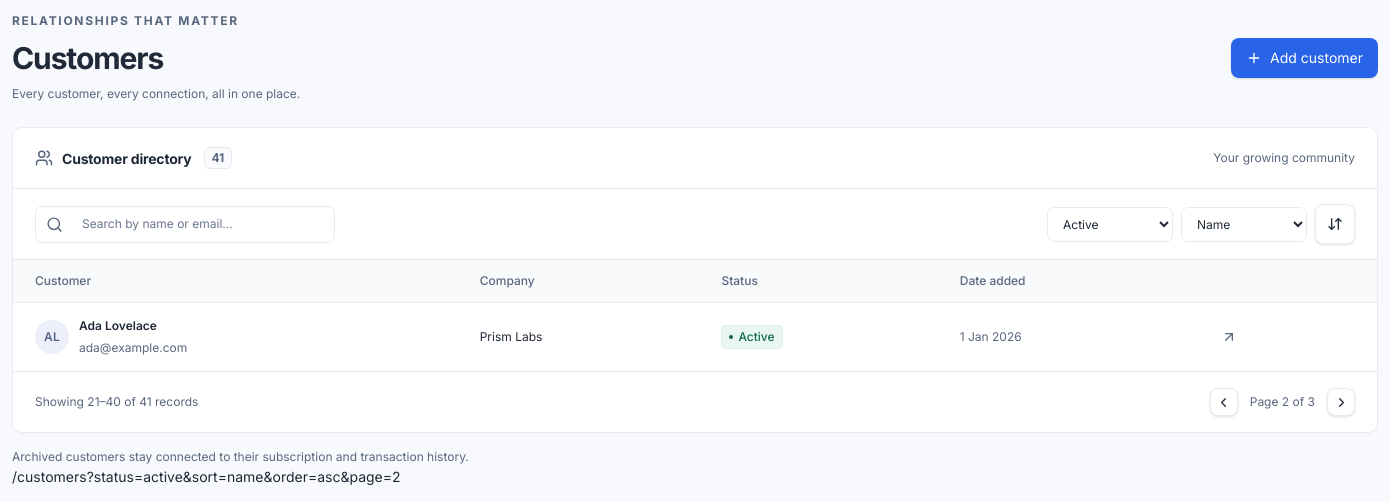
Test: customer pages › persists search, sort, status and pagination in a shareable URL
This screenshot has width=1390, height=502.
Expected: the link "AL Ada Lovelace ada@example.com" is shown, [35,318,187,355]
Expected: the 1st dropdown named "Customer status" shows "Active", [1047,206,1173,242]
Click the button named "Next page" at (1341, 402), box [1327,388,1355,416]
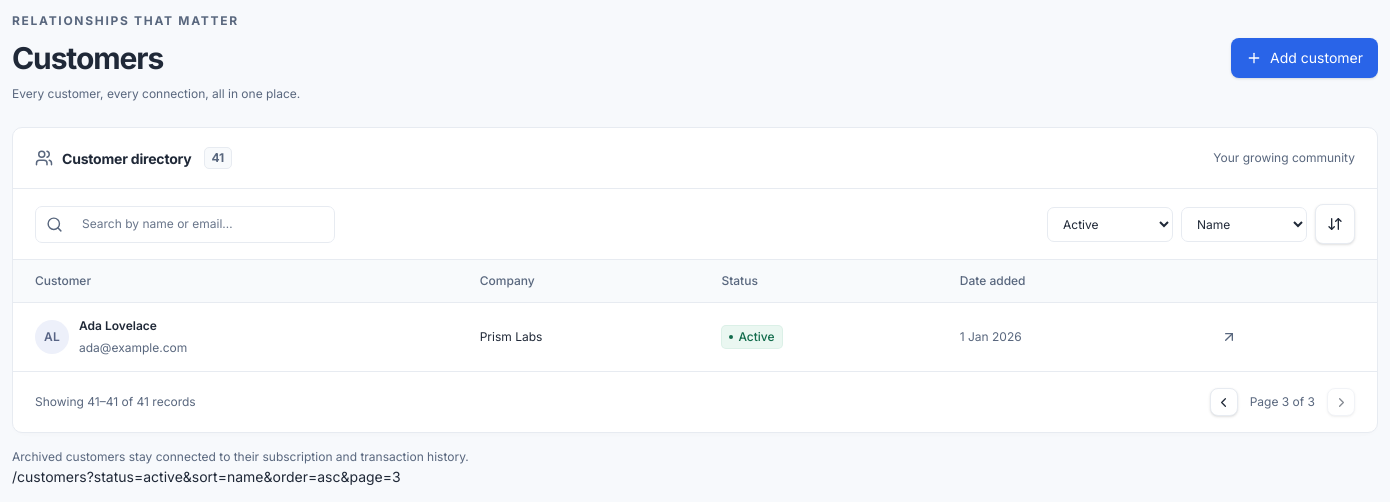
Now the text with test id "location" shows "page=3", box [12,468,401,485]
Type "ada" into the field named "Search customers" at (202, 224), box [71,206,334,242]
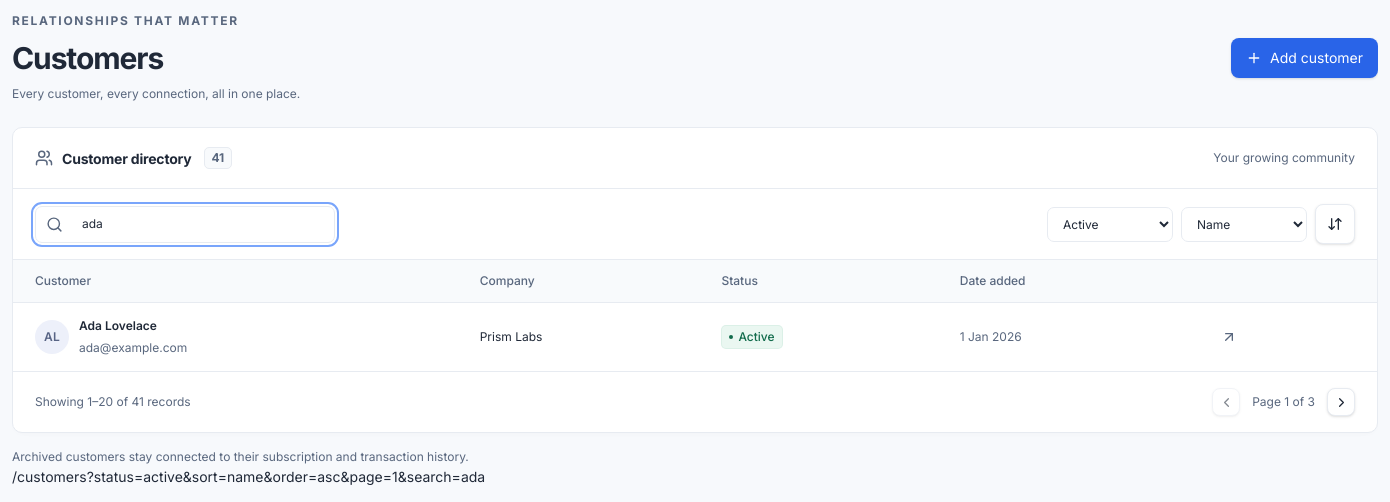
Now the text with test id "location" shows "page=1", box [12,468,485,485]
Select "Archived" in the 1st dropdown named "Customer status" at (1110, 224), box [1047,206,1173,242]
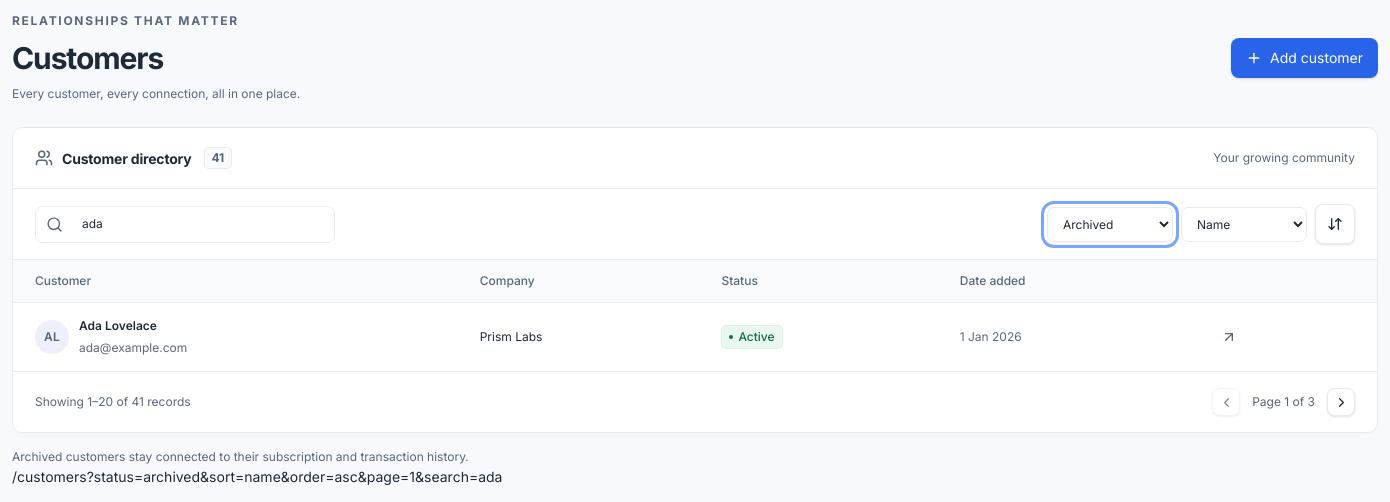
Select "Email" in the 2nd dropdown named "Sort customers" at (1244, 224), box [1181,206,1307,242]
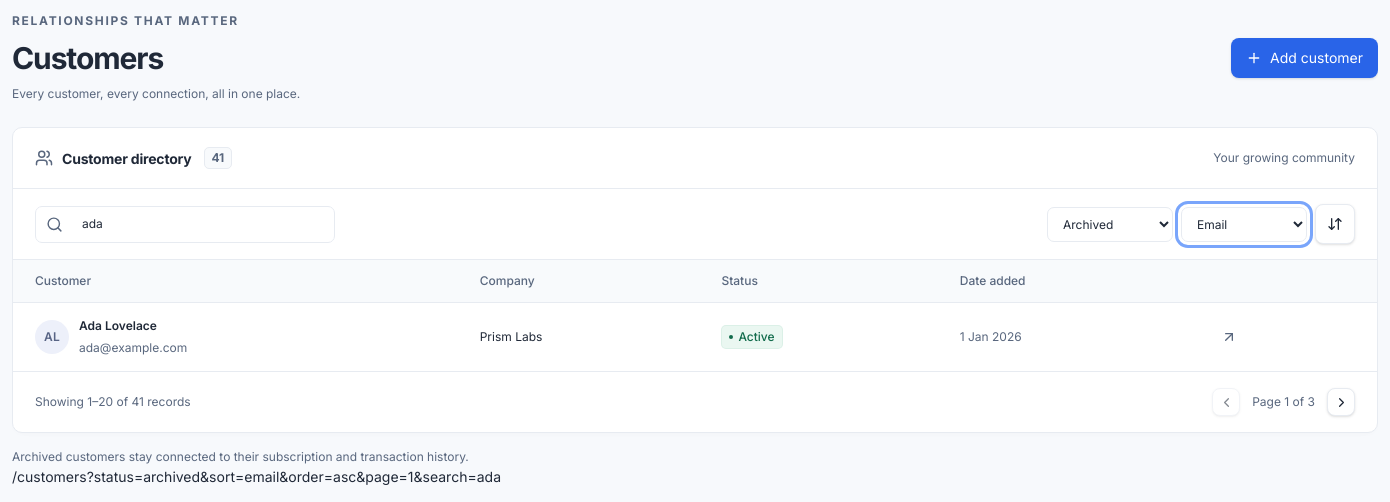
Click the button named "Sort descending" at (1335, 224), box [1315,204,1355,244]
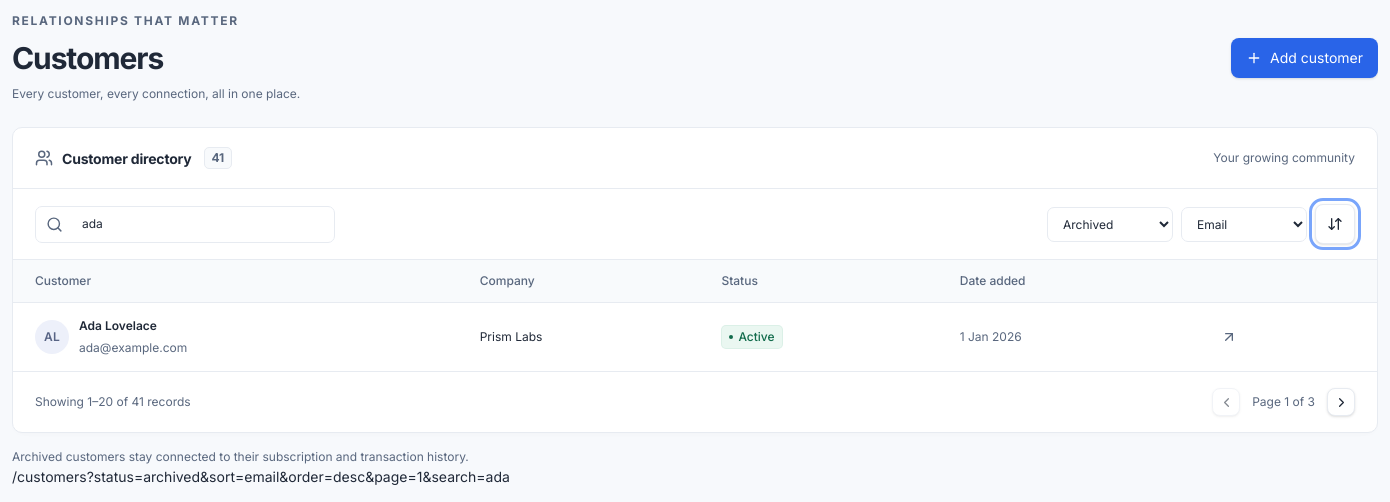
Now the text with test id "location" shows "sort=email", box [12,468,510,485]
Now the text with test id "location" shows "status=archived", box [12,468,510,485]
Now the text with test id "location" shows "order=desc", box [12,468,510,485]
